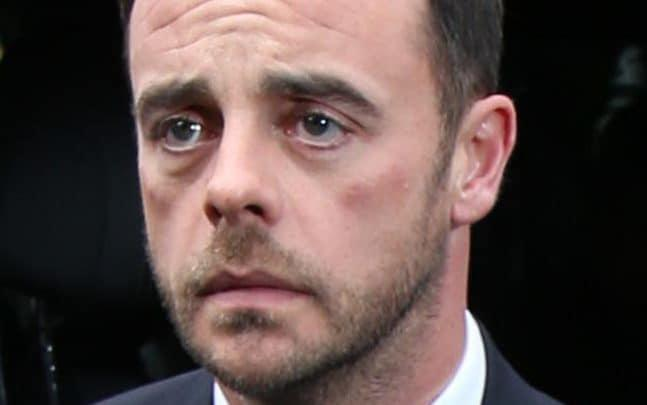Drunk: (131, 1, 435, 368)
